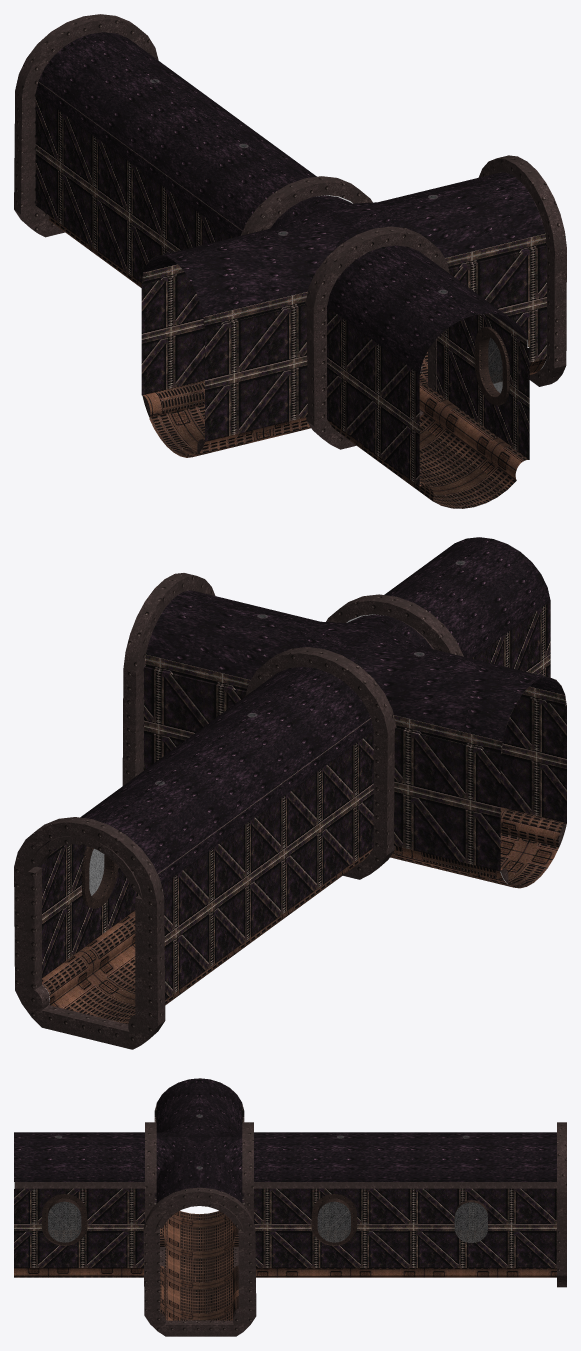
Rendered from Pasillo 4 corto.fbx.
3 renders of one model, top to bottom at view 1: azimuth 30°, elevation 25°; view 2: azimuth 150°, elevation 25°; view 3: azimuth 270°, elevation 25°, orthographic. The views are drawn at different scales.
Visible parts, largest first — view 1: Model; view 2: Model; view 3: Model.
Boxes of the visible parts, <box> form: Model: <box>14,14,566,508</box>; Model: <box>14,537,566,1049</box>; Model: <box>14,1078,566,1336</box>.
Size of the model in its own units: 5.54 by 3.07 by 10.61.
